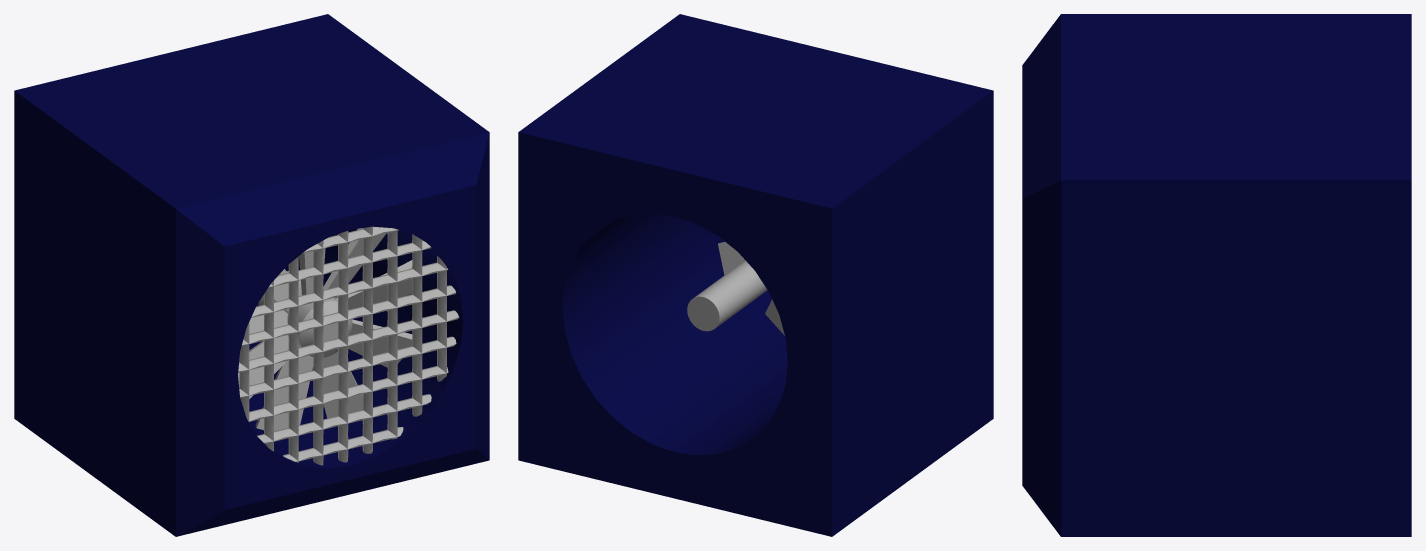
File: fan.glb
The picture shows the model from 3 angles, left to right: view 1: azimuth 30°, elevation 25°; view 2: azimuth 150°, elevation 25°; view 3: azimuth 270°, elevation 25°; orthographic projection. The views are drawn at different scales.
Visible parts, largest first — view 1: Fan, Grid, Cylinder; view 2: Fan, Cylinder; view 3: Fan.
Part boxes in pixels (box(x1,y1,x2,y2)): Fan: box(14, 14, 489, 536); Grid: box(238, 226, 459, 465); Cylinder: box(238, 228, 412, 431); Fan: box(518, 14, 993, 536); Cylinder: box(687, 242, 784, 335); Fan: box(1022, 14, 1411, 536).
Size of the model in its own units: 0.8 by 0.8 by 0.7918.
